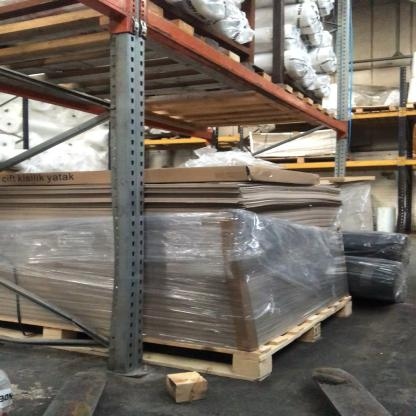vertical_damage: (102, 352, 162, 387)
